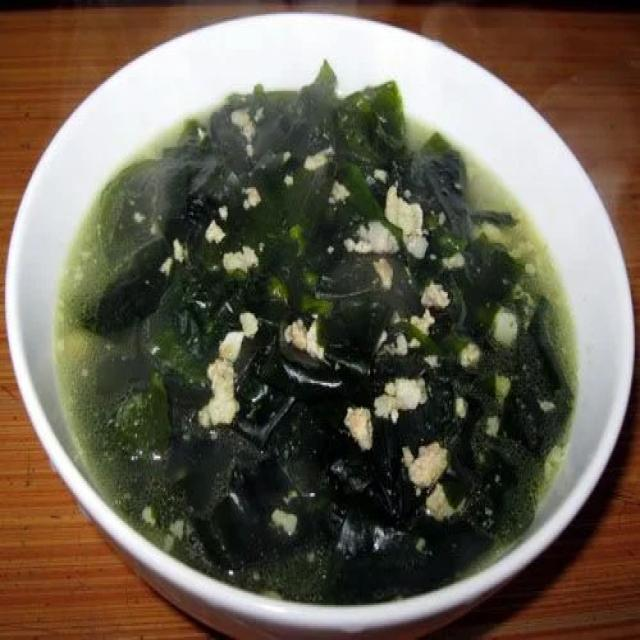canh rong bien: (41, 61, 576, 614)
